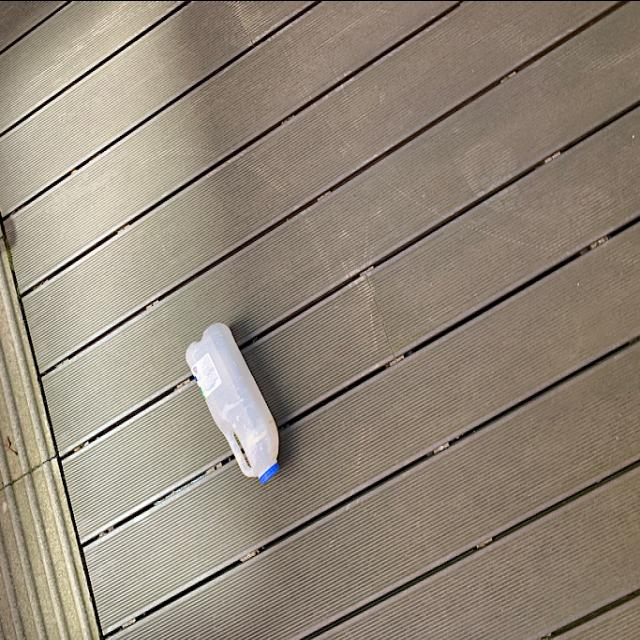litter: (184, 318, 286, 487)
